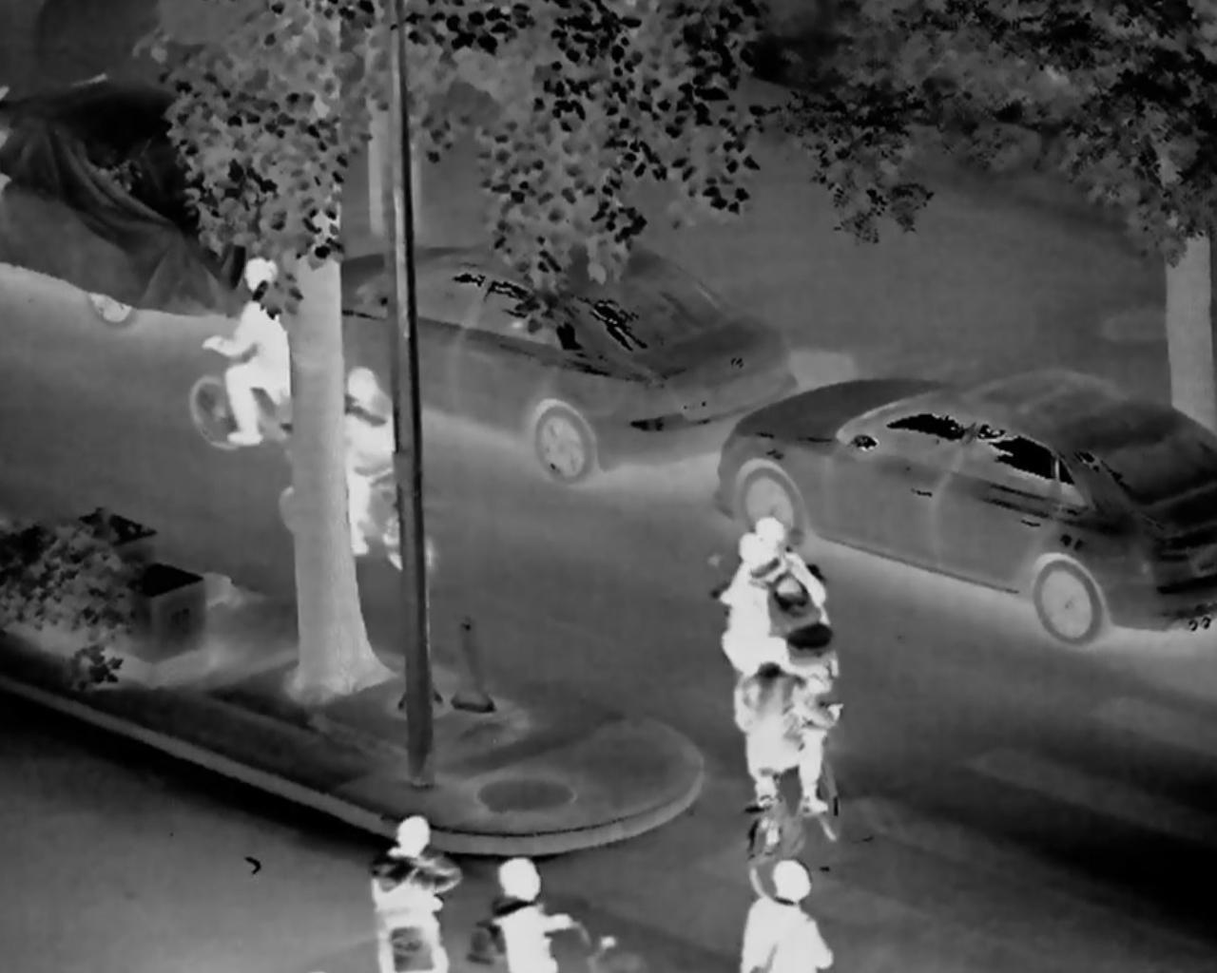person: (191, 253, 319, 452), (730, 485, 829, 722), (733, 634, 827, 841), (366, 815, 485, 973), (322, 372, 418, 551), (481, 850, 585, 973), (744, 839, 831, 973)
